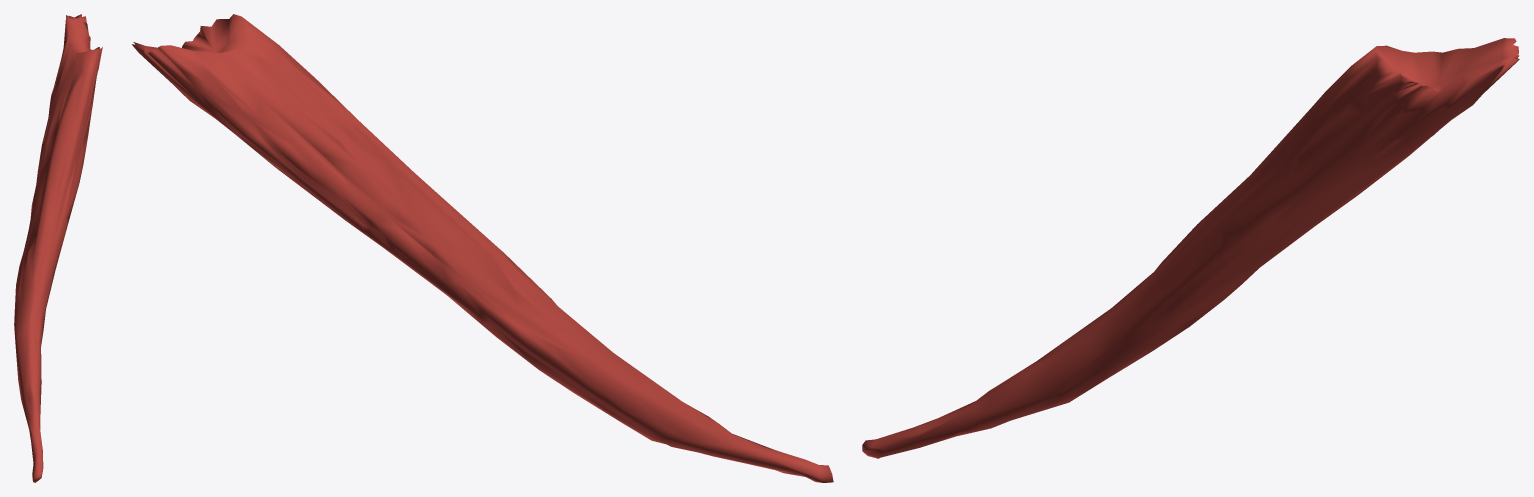
The model's file is musculos-posterior-belly-of-digastric-muscle-l.glb.
3 views of the same model, side by side, from view 1: azimuth 30°, elevation 25°; view 2: azimuth 150°, elevation 25°; view 3: azimuth 270°, elevation 25° (orthographic). The views are drawn at different scales.
Parts seen in each view (by area): view 1: Posterior belly of digastric muscle.l; view 2: Posterior belly of digastric muscle.l; view 3: Posterior belly of digastric muscle.l.
Part boxes in pixels (x1,y1,x2,y2): Posterior belly of digastric muscle.l: (14, 14, 102, 482); Posterior belly of digastric muscle.l: (132, 14, 833, 482); Posterior belly of digastric muscle.l: (862, 38, 1519, 458).
Size of the model in its own units: 0.0469 by 0.0641 by 0.0631.
